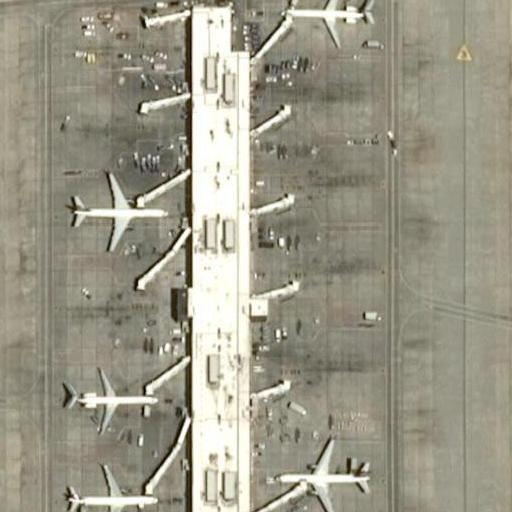Aircraft: (66, 164, 167, 255), (273, 430, 373, 512), (57, 362, 159, 436), (277, 0, 377, 51), (61, 459, 157, 512), (0, 479, 2, 512)
